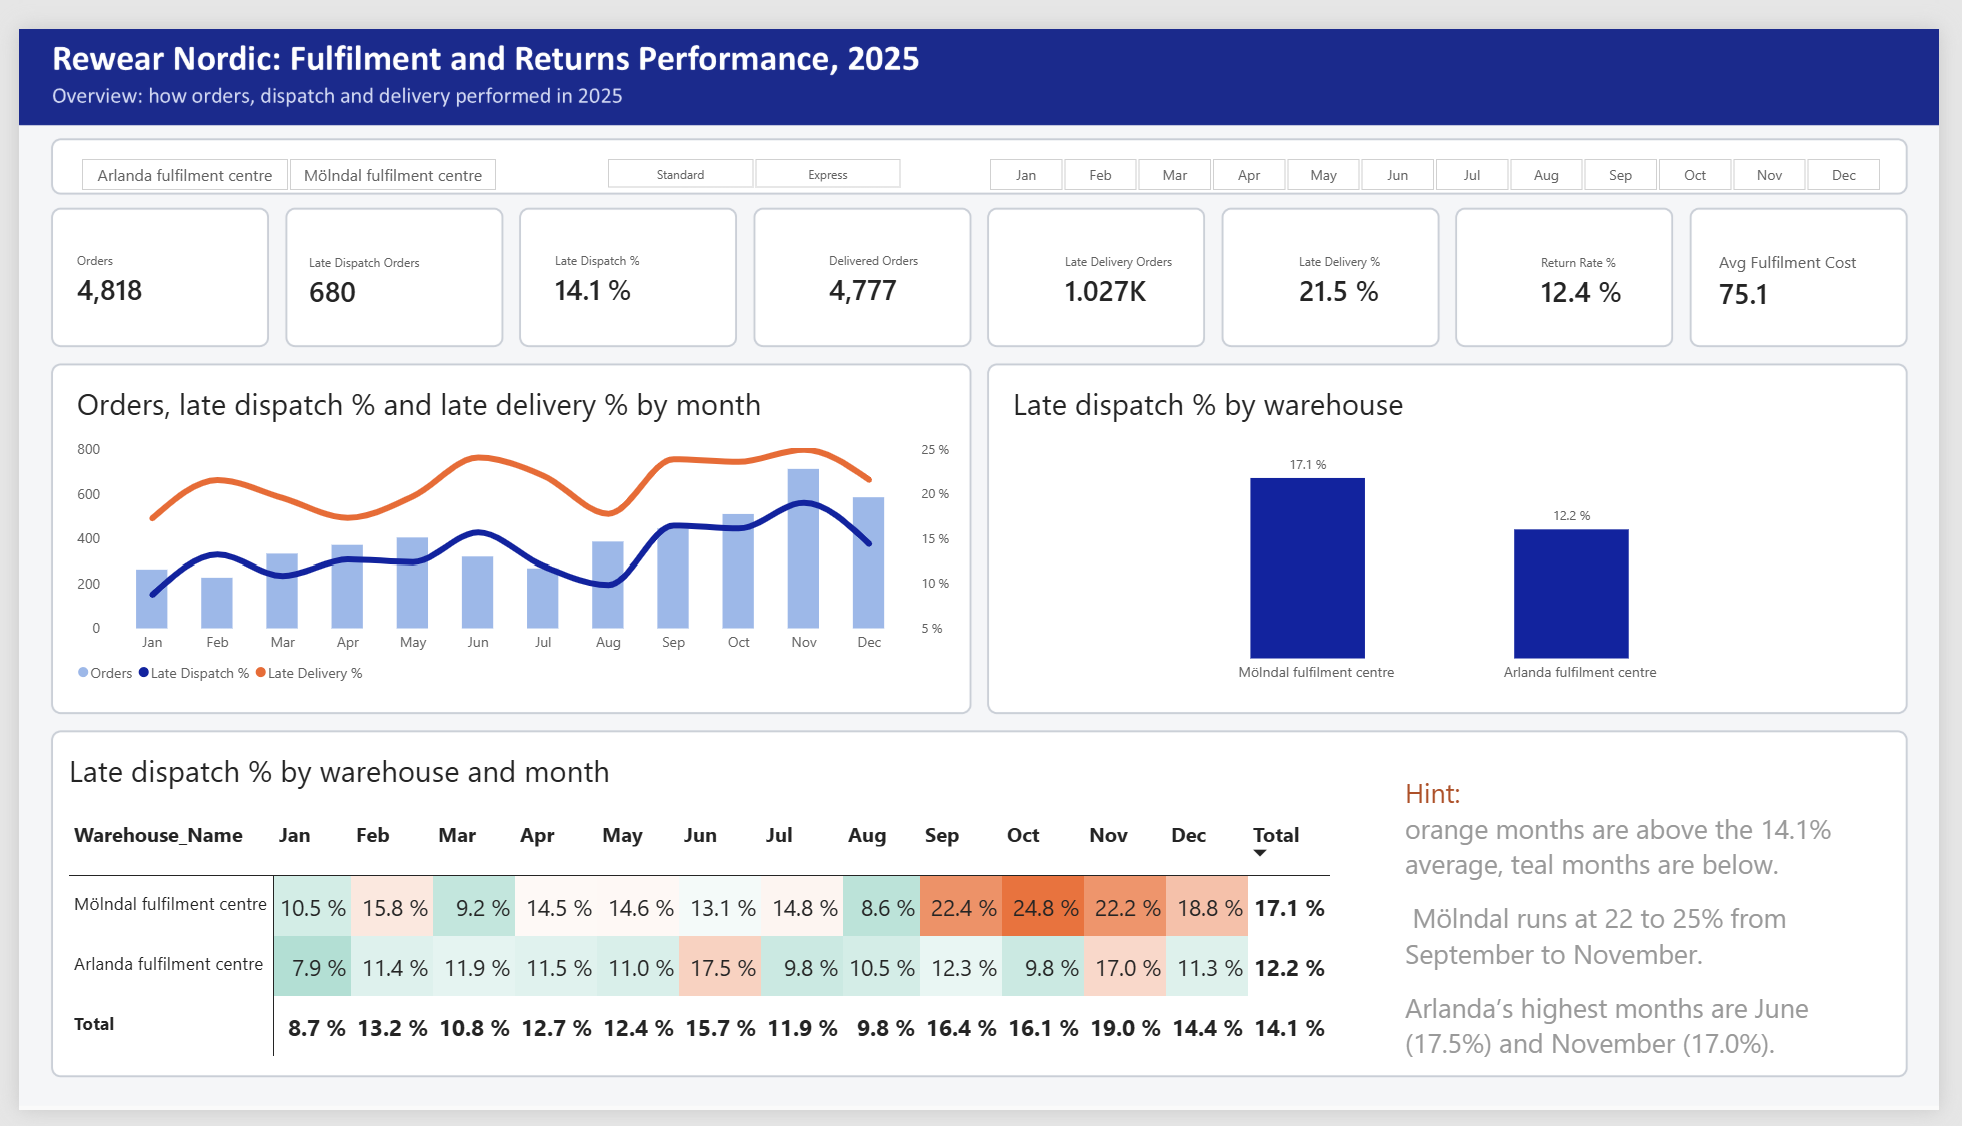

The dashboard page shown, as its layout file describes it:
{"tool":"powerbi","page":{"name":"Overview","canvas":[1920,1080],"ordinal":0},"visuals":[{"type":"cardVisual","fields":{"Data":["Measures (2).Orders"]},"box":[42.5,207.5,139.3,86.3],"z":0},{"type":"cardVisual","fields":{"Data":["Measures (2).Late Dispatch %"]},"box":[520.5,207.5,181.5,87.1],"z":1000},{"type":"cardVisual","fields":{"Data":["Measures (2).Delivered Orders"]},"box":[793.9,207.5,143.9,86.3],"z":2000},{"type":"cardVisual","fields":{"Data":["Measures (2).Late Delivery Orders"]},"box":[1030,207.5,140.8,89.3],"z":3000},{"type":"cardVisual","fields":{"Data":["Measures (2).Late Delivery %"]},"box":[1263.1,207.5,149.9,89.3],"z":4000},{"type":"clusteredColumnChart","title":"Late dispatch % by warehouse","fields":{"Category":["T_Warehouses.Warehouse_Name"],"Y":["Measures (2).Late Dispatch %"]},"box":[977.5,340,902.5,332.5],"z":5000},{"type":"lineClusteredColumnComboChart","title":"Orders, late dispatch % and late delivery % by month","fields":{"Category":["Dim_Date.Month"],"Y":["Measures (2).Orders"],"Y2":["Measures (2).Late Dispatch %","Measures (2).Late Delivery %"]},"box":[42.5,340,907.5,332.5],"z":6000},{"type":"slicer","fields":{"Values":["T_Warehouses.Warehouse_Name"]},"box":[42.6,127.8,453.9,35.2],"z":7000},{"type":"slicer","fields":{"Values":["T_Orders.Delivery_Service"]},"box":[568.7,127.8,332.5,32.5],"z":8000},{"type":"slicer","fields":{"Values":["Dim_Date.Month"]},"box":[950,127.5,930,35],"z":9000},{"type":"cardVisual","fields":{"Data":["Measures (2).Return Rate %"]},"box":[1505.2,207.5,140,91.7],"z":10000},{"type":"cardVisual","fields":{"Data":["Measures (2).Avg Fulfilment Cost"]},"box":[1683.4,207.5,195.9,89.2],"z":11000},{"type":"cardVisual","fields":{"Data":["Measures (2).Late Dispatch Orders"]},"box":[274.1,207.5,153.3,90],"z":12000},{"type":"pivotTable","title":"Late dispatch % by warehouse and month","fields":{"Columns":["Dim_Date.Month"],"Rows":["T_Warehouses.Warehouse_Name"],"Values":["Measures (2).Late Dispatch %"]},"box":[34,706,1846,342],"z":13000},{"type":"textbox","box":[1386,724,476,324],"z":14000}]}

Visuals, with their boxes in screenshot pixels (x1, y1, x2, y2), scaled from the page's 1920x1080 canvas onto the 1962x1126 screenshot:
cardVisual - Measures (2).Orders: region(43, 216, 186, 306)
cardVisual - Measures (2).Late Dispatch %: region(532, 216, 717, 307)
cardVisual - Measures (2).Delivered Orders: region(811, 216, 958, 306)
cardVisual - Measures (2).Late Delivery Orders: region(1053, 216, 1196, 309)
cardVisual - Measures (2).Late Delivery %: region(1291, 216, 1444, 309)
"Late dispatch % by warehouse" clusteredColumnChart: region(999, 354, 1921, 701)
"Orders, late dispatch % and late delivery % by month" lineClusteredColumnComboChart: region(43, 354, 971, 701)
slicer - T_Warehouses.Warehouse_Name: region(44, 133, 507, 170)
slicer - T_Orders.Delivery_Service: region(581, 133, 921, 167)
slicer - Dim_Date.Month: region(971, 133, 1921, 169)
cardVisual - Measures (2).Return Rate %: region(1538, 216, 1681, 312)
cardVisual - Measures (2).Avg Fulfilment Cost: region(1720, 216, 1920, 309)
cardVisual - Measures (2).Late Dispatch Orders: region(280, 216, 437, 310)
"Late dispatch % by warehouse and month" pivotTable: region(35, 736, 1921, 1093)
textbox: region(1416, 755, 1903, 1093)
